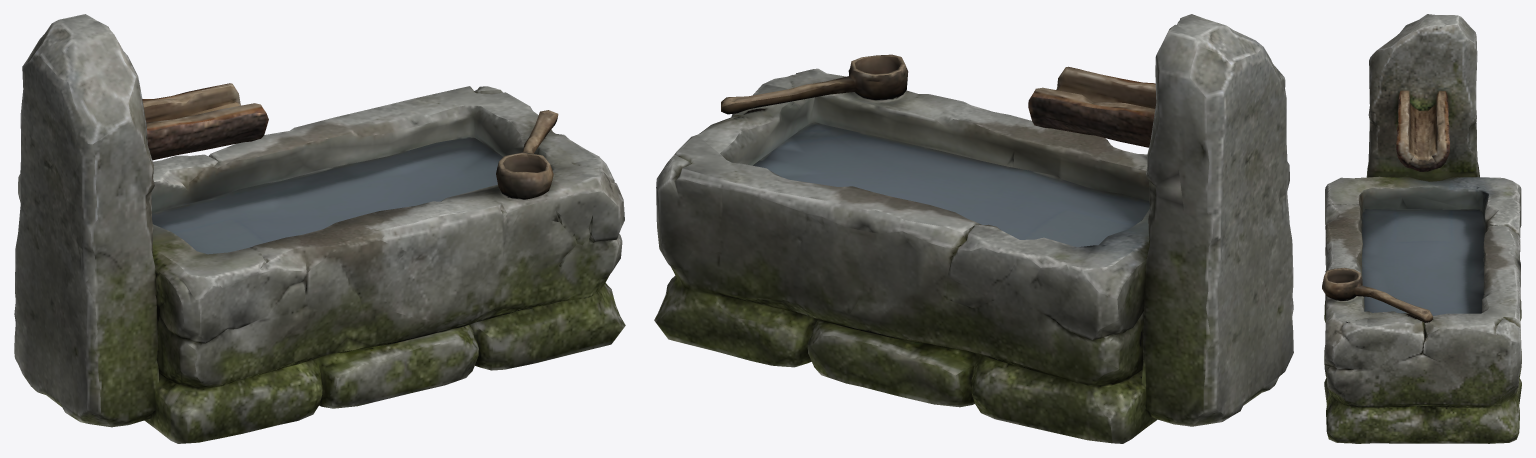
Rendered from SpringTrough.gltf.
The picture shows the model from 3 angles, left to right: view 1: azimuth 30°, elevation 25°; view 2: azimuth 150°, elevation 25°; view 3: azimuth 270°, elevation 25°; orthographic projection. The views are drawn at different scales.
Visible parts, largest first — view 1: lo; view 2: lo; view 3: lo.
Part boxes in pixels (<box>): lo: <box>14,14,625,443</box>; lo: <box>654,14,1293,443</box>; lo: <box>1322,14,1521,443</box>.
Size of the model in its own units: 2.05 by 1.42 by 0.9715.
1 material, 1 textured.
